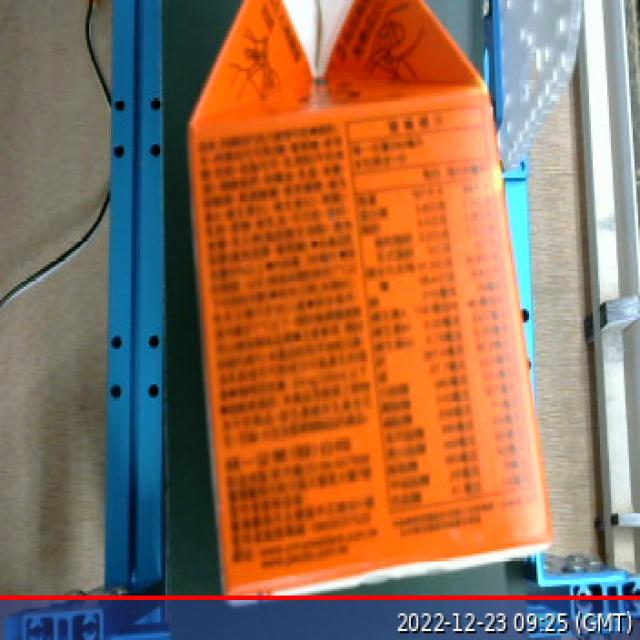non_white_jug: (165, 0, 550, 593)
